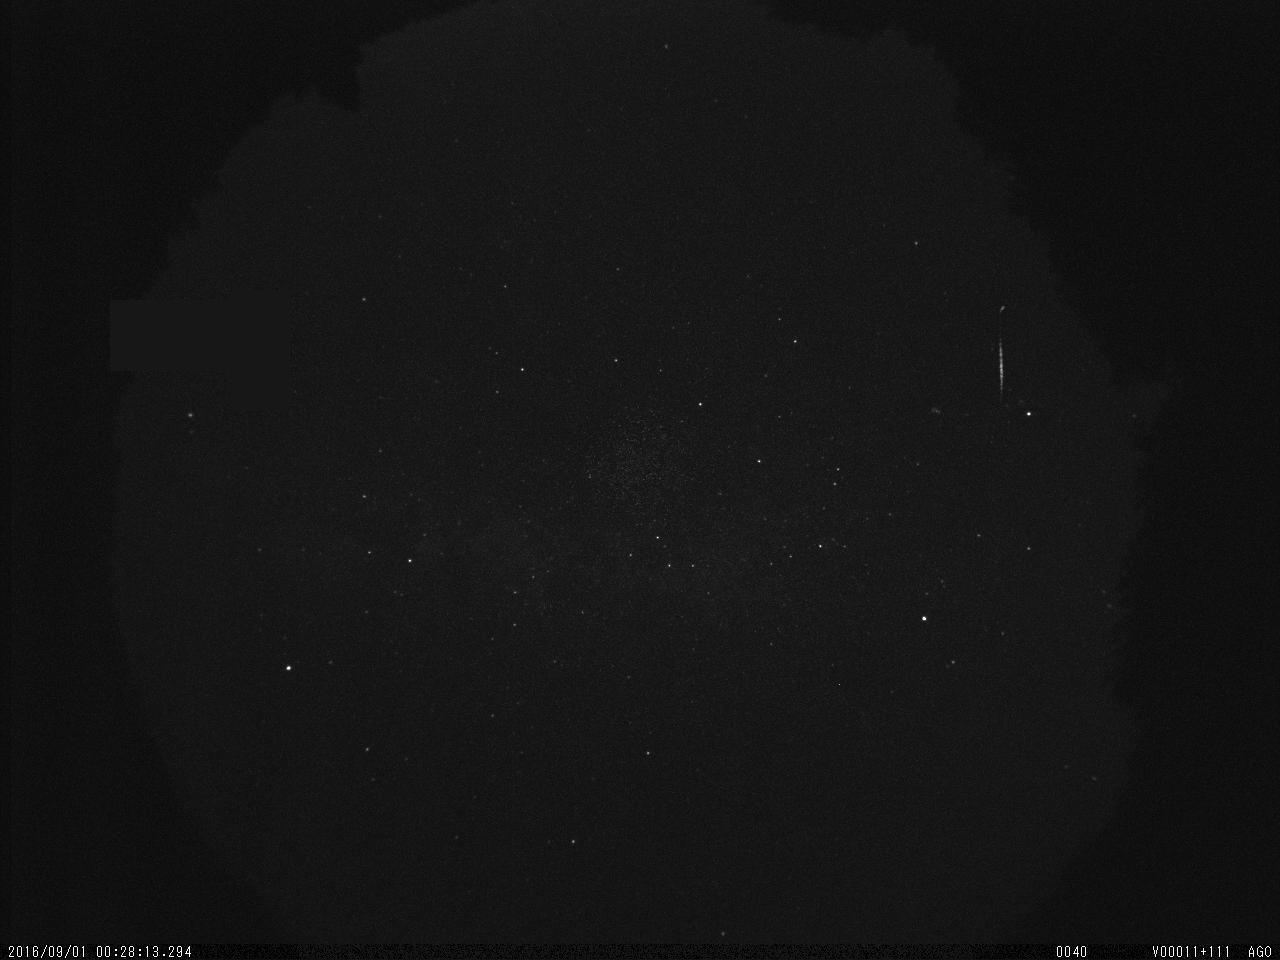meteor: (992, 304, 1015, 406)
